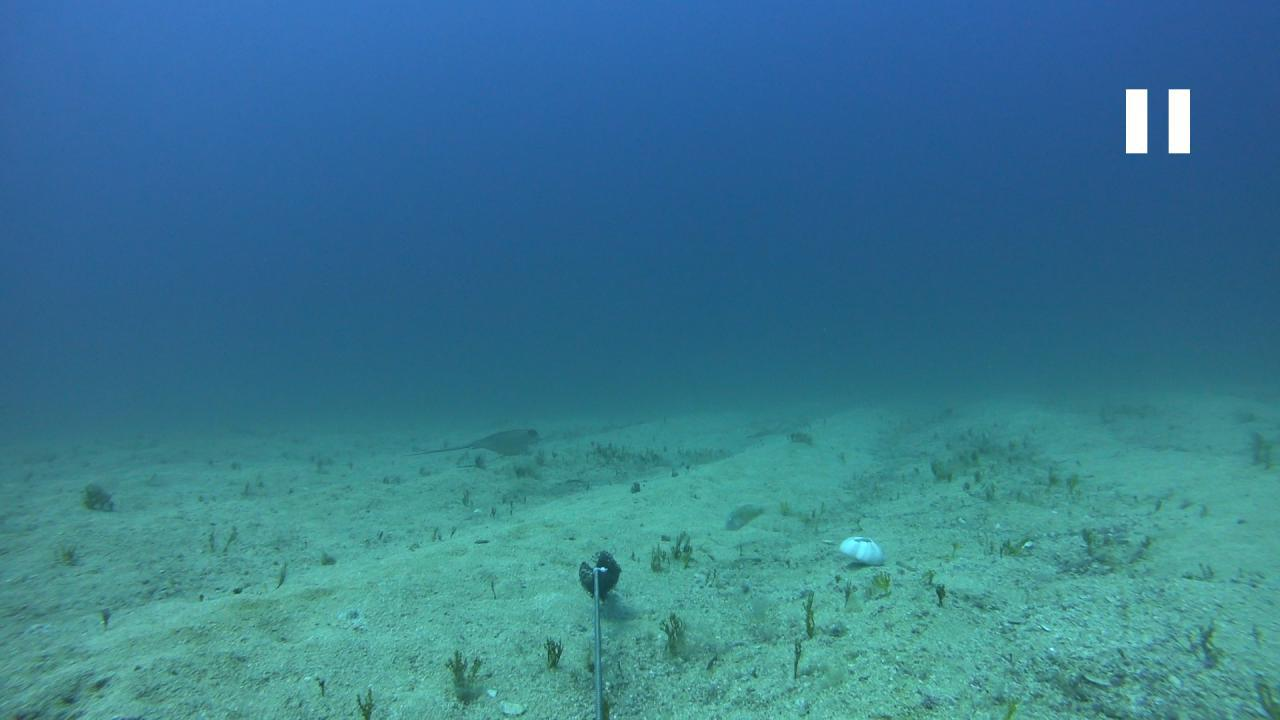dasyatis: (404, 426, 542, 457)
